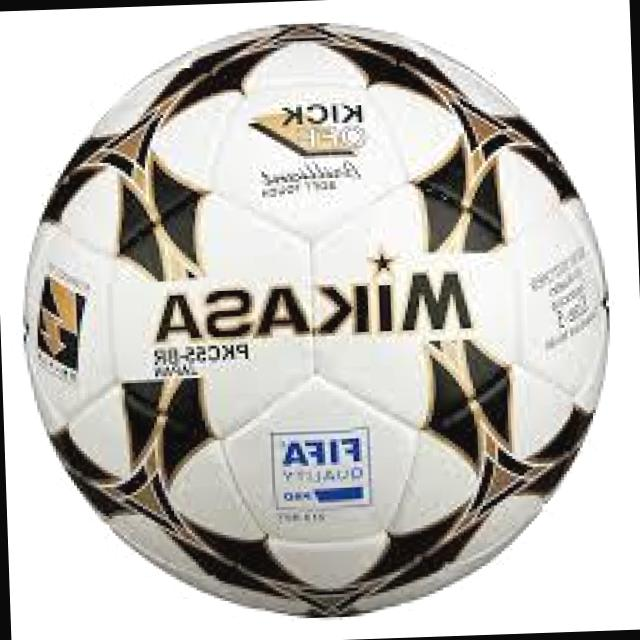Soccer Ball: (12, 10, 625, 633)
